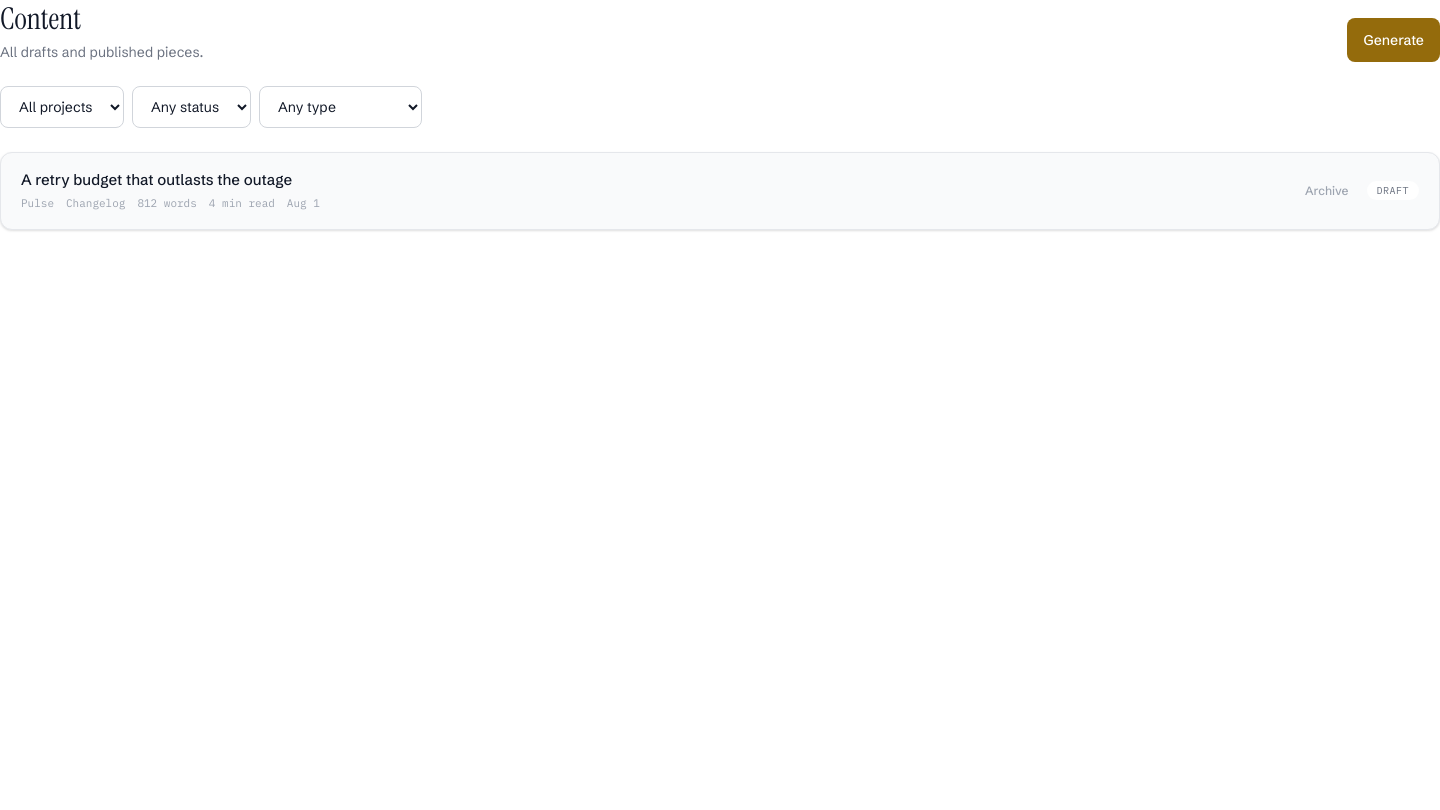
Test: generating a draft › opens from the header button once the list has something in it
expect the text "A retry budget that outlasts the outage" is shown: met, box top-left (21, 170), bottom-right (292, 188)
Click the button "Generate".
click(1394, 40)  # box top-left (1347, 18), bottom-right (1439, 62)
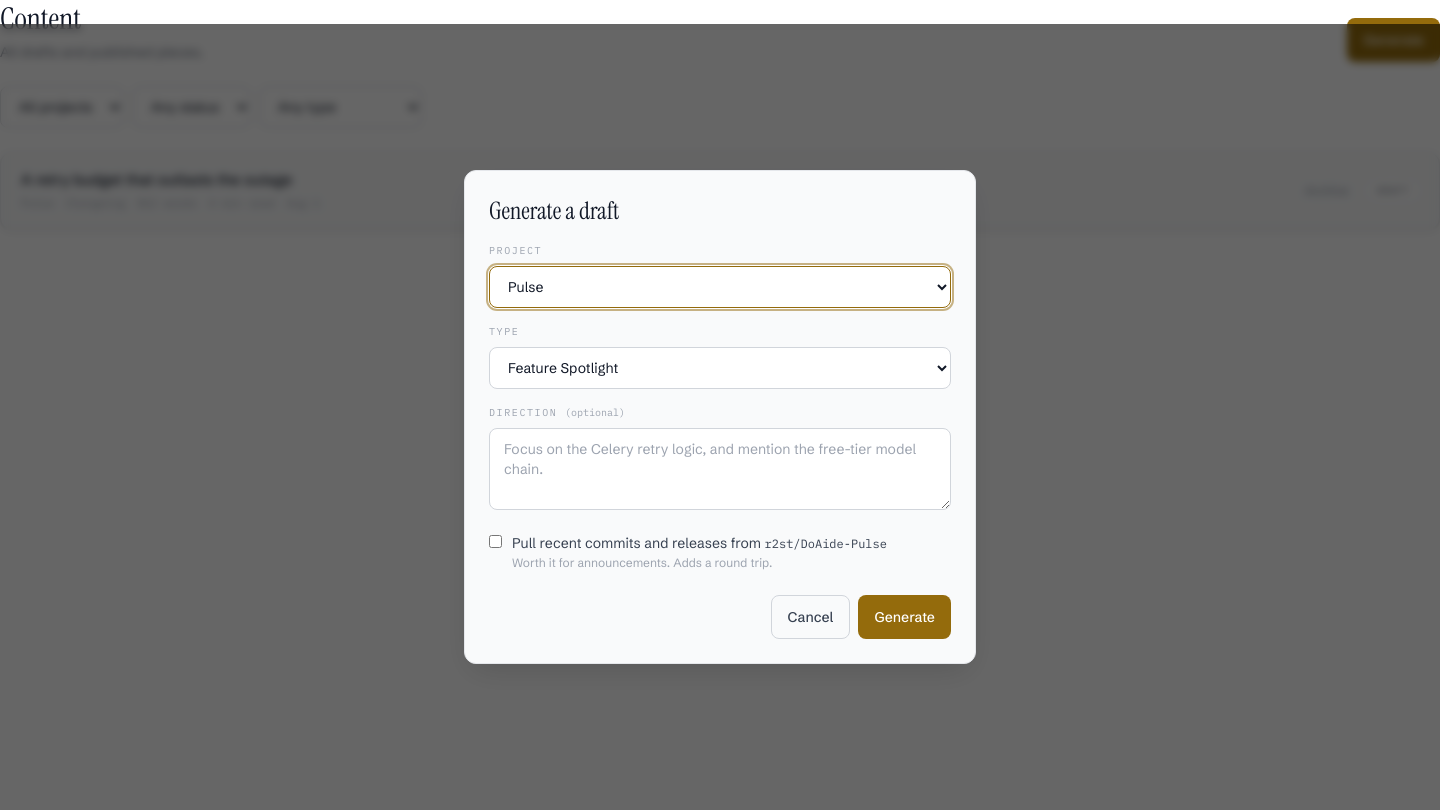
expect the dialog named "Generate content" is shown: met
